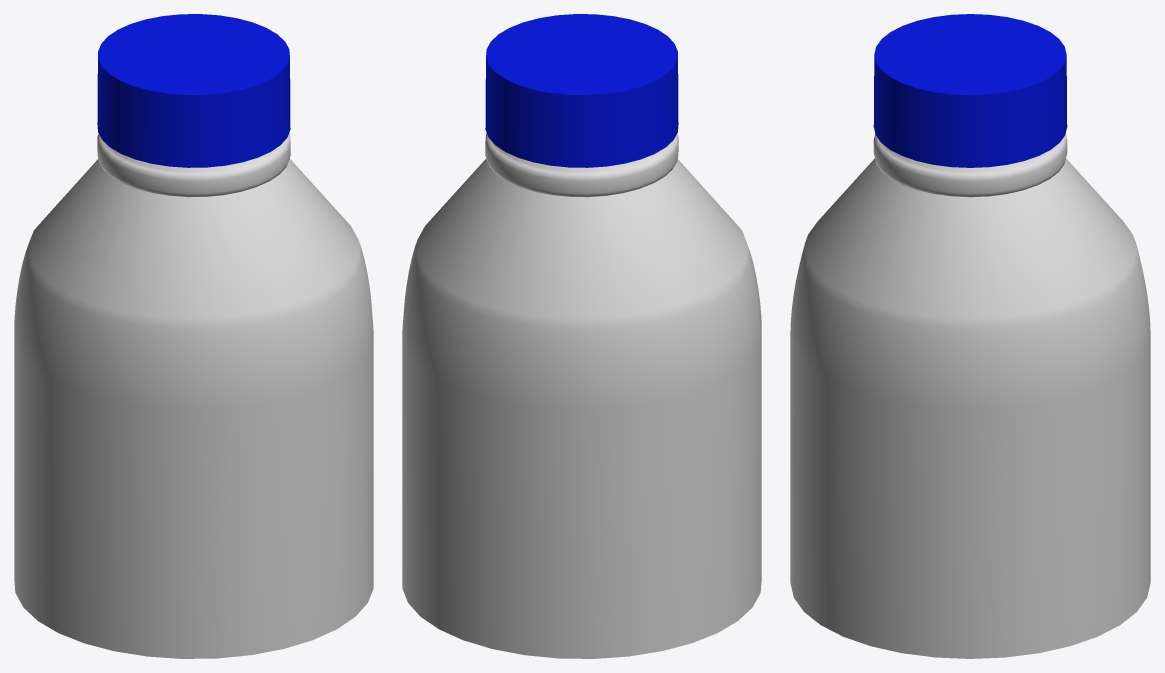
File: Bottle.fbx
The picture shows the model from 3 angles, left to right: view 1: azimuth 30°, elevation 25°; view 2: azimuth 150°, elevation 25°; view 3: azimuth 270°, elevation 25°; orthographic projection.
Parts seen in each view (by area): view 1: BottleCap; view 2: BottleCap; view 3: BottleCap.
Part boxes in pixels (x1=…): BottleCap: x1=14, y1=14, x2=373, y2=658; BottleCap: x1=402, y1=14, x2=761, y2=658; BottleCap: x1=790, y1=14, x2=1150, y2=658.
Size of the model in its own units: 9.49 by 15.35 by 9.49.
